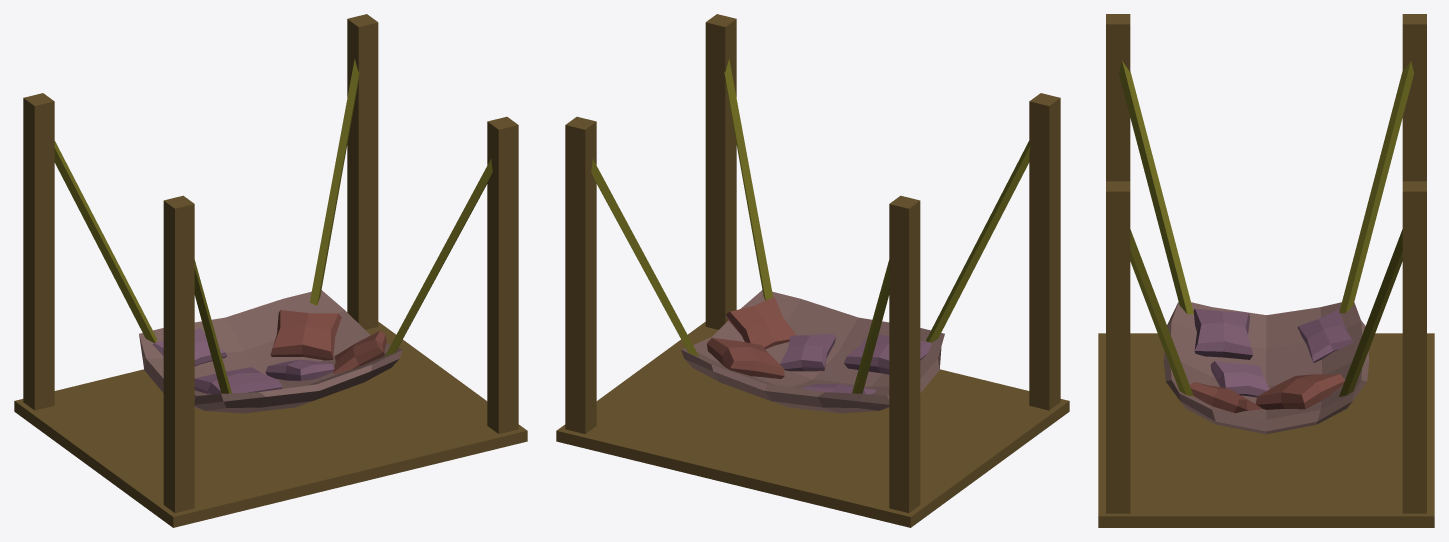
The model's file is Sleepbed1.glb.
The picture shows the model from 3 angles, left to right: view 1: azimuth 30°, elevation 25°; view 2: azimuth 150°, elevation 25°; view 3: azimuth 270°, elevation 25°; orthographic projection. The views are drawn at different scales.
Parts seen in each view (by area): view 1: Sleepbed1; view 2: Sleepbed1; view 3: Sleepbed1.
Boxes of the visible parts, left/top/right/bottom form: Sleepbed1: left=14, top=14, right=527, bottom=527; Sleepbed1: left=556, top=14, right=1069, bottom=527; Sleepbed1: left=1098, top=14, right=1434, bottom=527.
Bounding box in the file's own units: 5.62 × 4.78 × 4.36.
